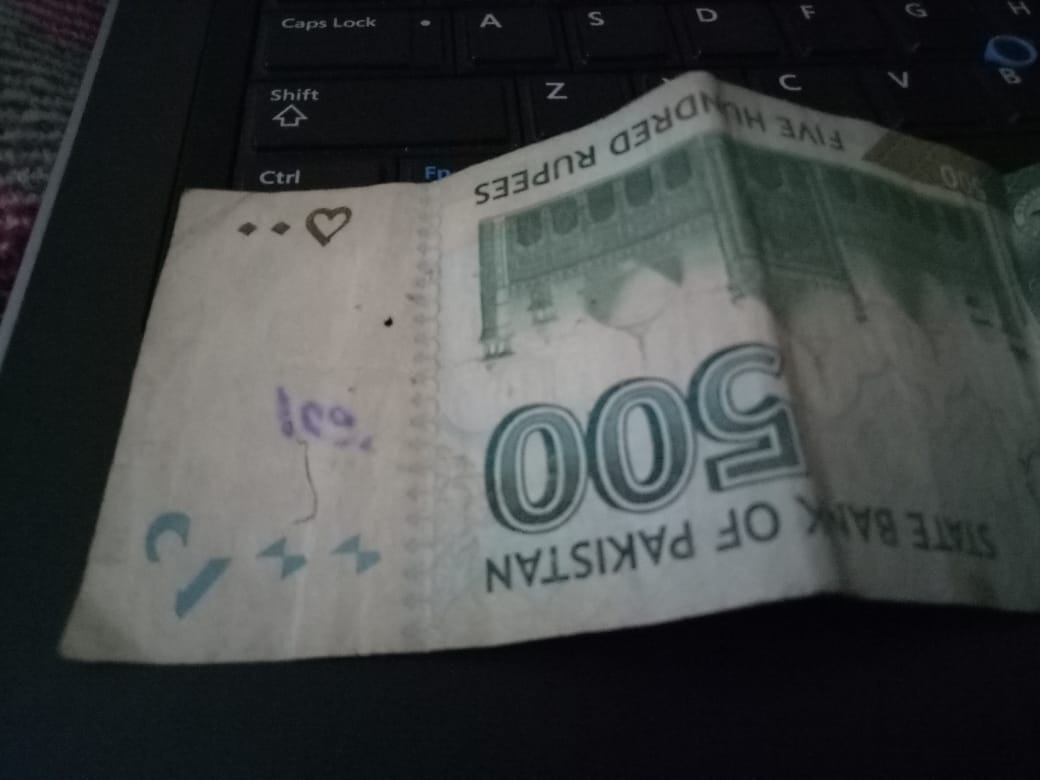500 rupee: (42, 70, 993, 694)
